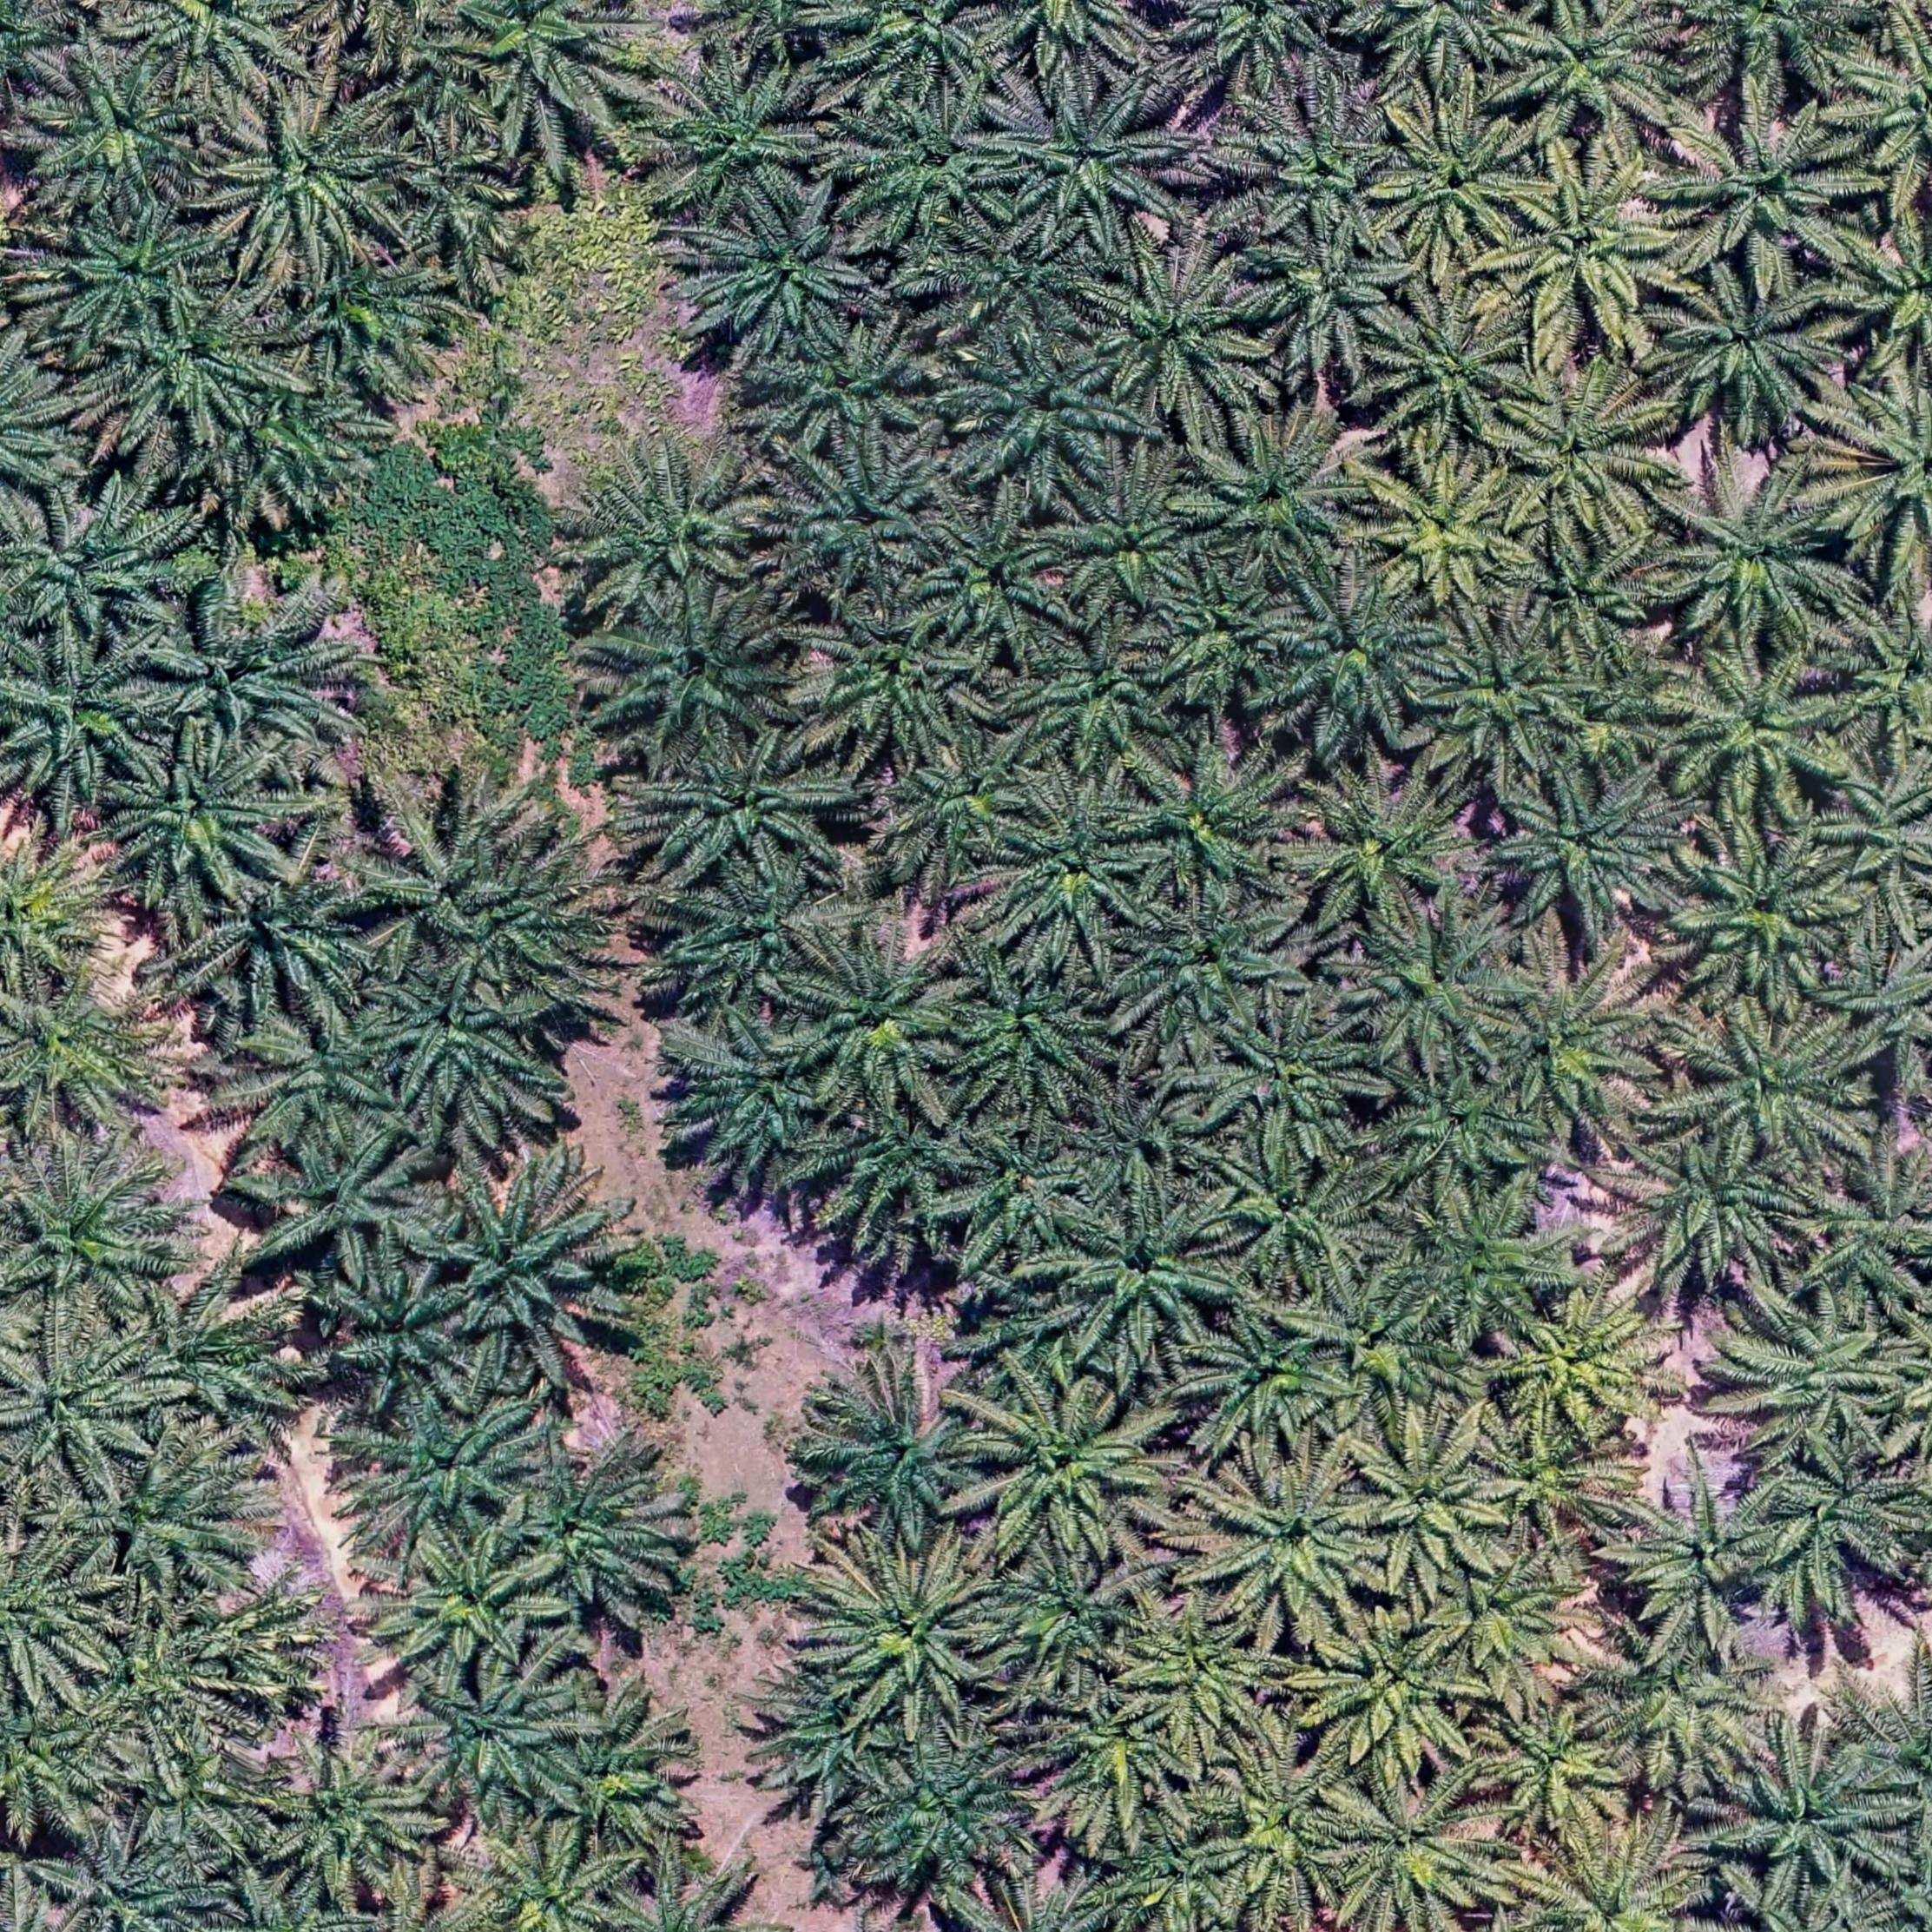palmtree: (1495, 150, 1693, 345), (970, 1378, 1175, 1564), (1652, 456, 1847, 648), (428, 1171, 616, 1366), (809, 1539, 1003, 1725), (1192, 1449, 1387, 1633), (1484, 952, 1674, 1138), (1672, 104, 1868, 283), (1670, 821, 1859, 1005), (1608, 1123, 1815, 1292), (1267, 561, 1456, 743), (993, 71, 1191, 244), (1292, 764, 1484, 939), (853, 1727, 1046, 1902), (1493, 764, 1688, 938), (150, 594, 350, 763), (1654, 260, 1844, 437), (1660, 646, 1849, 823), (1587, 1615, 1776, 1792), (1053, 1192, 1244, 1364), (1684, 1003, 1879, 1171), (640, 732, 846, 892), (573, 448, 771, 612), (1300, 1605, 1488, 1778), (218, 94, 407, 265), (0, 971, 184, 1146), (807, 1371, 993, 1545), (605, 586, 800, 750), (1497, 361, 1675, 540), (1111, 883, 1302, 1047), (1614, 1470, 1787, 1651), (791, 936, 970, 1109), (1729, 1293, 1909, 1465), (1085, 251, 1270, 418), (1191, 412, 1373, 580), (1419, 610, 1594, 784), (1118, 745, 1300, 911), (1339, 904, 1525, 1067), (60, 1444, 255, 1598), (1723, 1734, 1902, 1900), (1499, 1283, 1681, 1445), (502, 1447, 676, 1617), (113, 743, 294, 906), (672, 1012, 846, 1180), (656, 55, 832, 221), (1295, 1265, 1468, 1431), (0, 499, 186, 653), (352, 1396, 540, 1548), (1327, 1769, 1506, 1928), (264, 1734, 437, 1897), (30, 51, 205, 212), (955, 334, 1131, 495), (805, 596, 980, 757), (1401, 1185, 1571, 1350), (1500, 0, 1690, 147), (773, 444, 955, 596), (1345, 1415, 1507, 1585), (1200, 1743, 1362, 1913), (363, 794, 533, 957), (258, 1123, 435, 1277), (1205, 1000, 1382, 1154), (694, 203, 872, 356), (844, 90, 1023, 242), (16, 1157, 180, 1322), (1368, 455, 1537, 612), (1247, 225, 1421, 379), (1378, 99, 1543, 260), (948, 966, 1123, 1116), (1207, 1138, 1384, 1286), (1753, 1440, 1921, 1596), (380, 1534, 556, 1683), (1189, 1306, 1357, 1460), (669, 863, 842, 1012), (7, 639, 170, 796), (993, 798, 1159, 952), (241, 1000, 409, 1152), (375, 966, 543, 1116), (412, 1663, 584, 1810), (534, 1713, 697, 1867), (324, 1265, 483, 1421), (1477, 1691, 1638, 1845), (1371, 288, 1532, 442), (1435, 1541, 1598, 1693), (764, 324, 941, 464), (115, 294, 283, 441), (129, 1288, 299, 1433), (915, 501, 1076, 653), (212, 867, 379, 1014), (51, 209, 225, 349), (1251, 101, 1410, 253), (1028, 1681, 1189, 1829), (1123, 1605, 1286, 1752), (984, 1546, 1152, 1688), (1378, 1053, 1545, 1194), (819, 1100, 987, 1240), (1146, 561, 1300, 713), (1819, 366, 1932, 571), (4, 1332, 157, 1483), (1056, 469, 1214, 614), (1019, 621, 1177, 764), (885, 738, 1046, 878), (1801, 1152, 1932, 1322), (455, 0, 639, 120), (1509, 1826, 1714, 1932), (1470, 1412, 1626, 1550), (1668, 0, 1877, 103), (124, 1730, 280, 1867), (764, 1665, 911, 1806), (85, 1619, 248, 1743), (287, 255, 444, 382), (948, 1129, 1097, 1261), (1522, 527, 1672, 655), (0, 832, 115, 996), (1822, 738, 1932, 909), (1826, 579, 1932, 755), (1171, 0, 1362, 97), (124, 0, 311, 99), (945, 226, 1099, 345), (0, 1684, 119, 1838), (1836, 16, 1932, 205), (1829, 207, 1932, 382), (1824, 934, 1932, 1093), (1076, 1079, 1221, 1196), (0, 1534, 104, 1693), (395, 134, 522, 264), (46, 1831, 209, 1932), (467, 1833, 632, 1932), (1104, 1817, 1244, 1932), (467, 858, 591, 985), (1359, 0, 1541, 85), (0, 340, 83, 524), (846, 0, 1008, 87)
